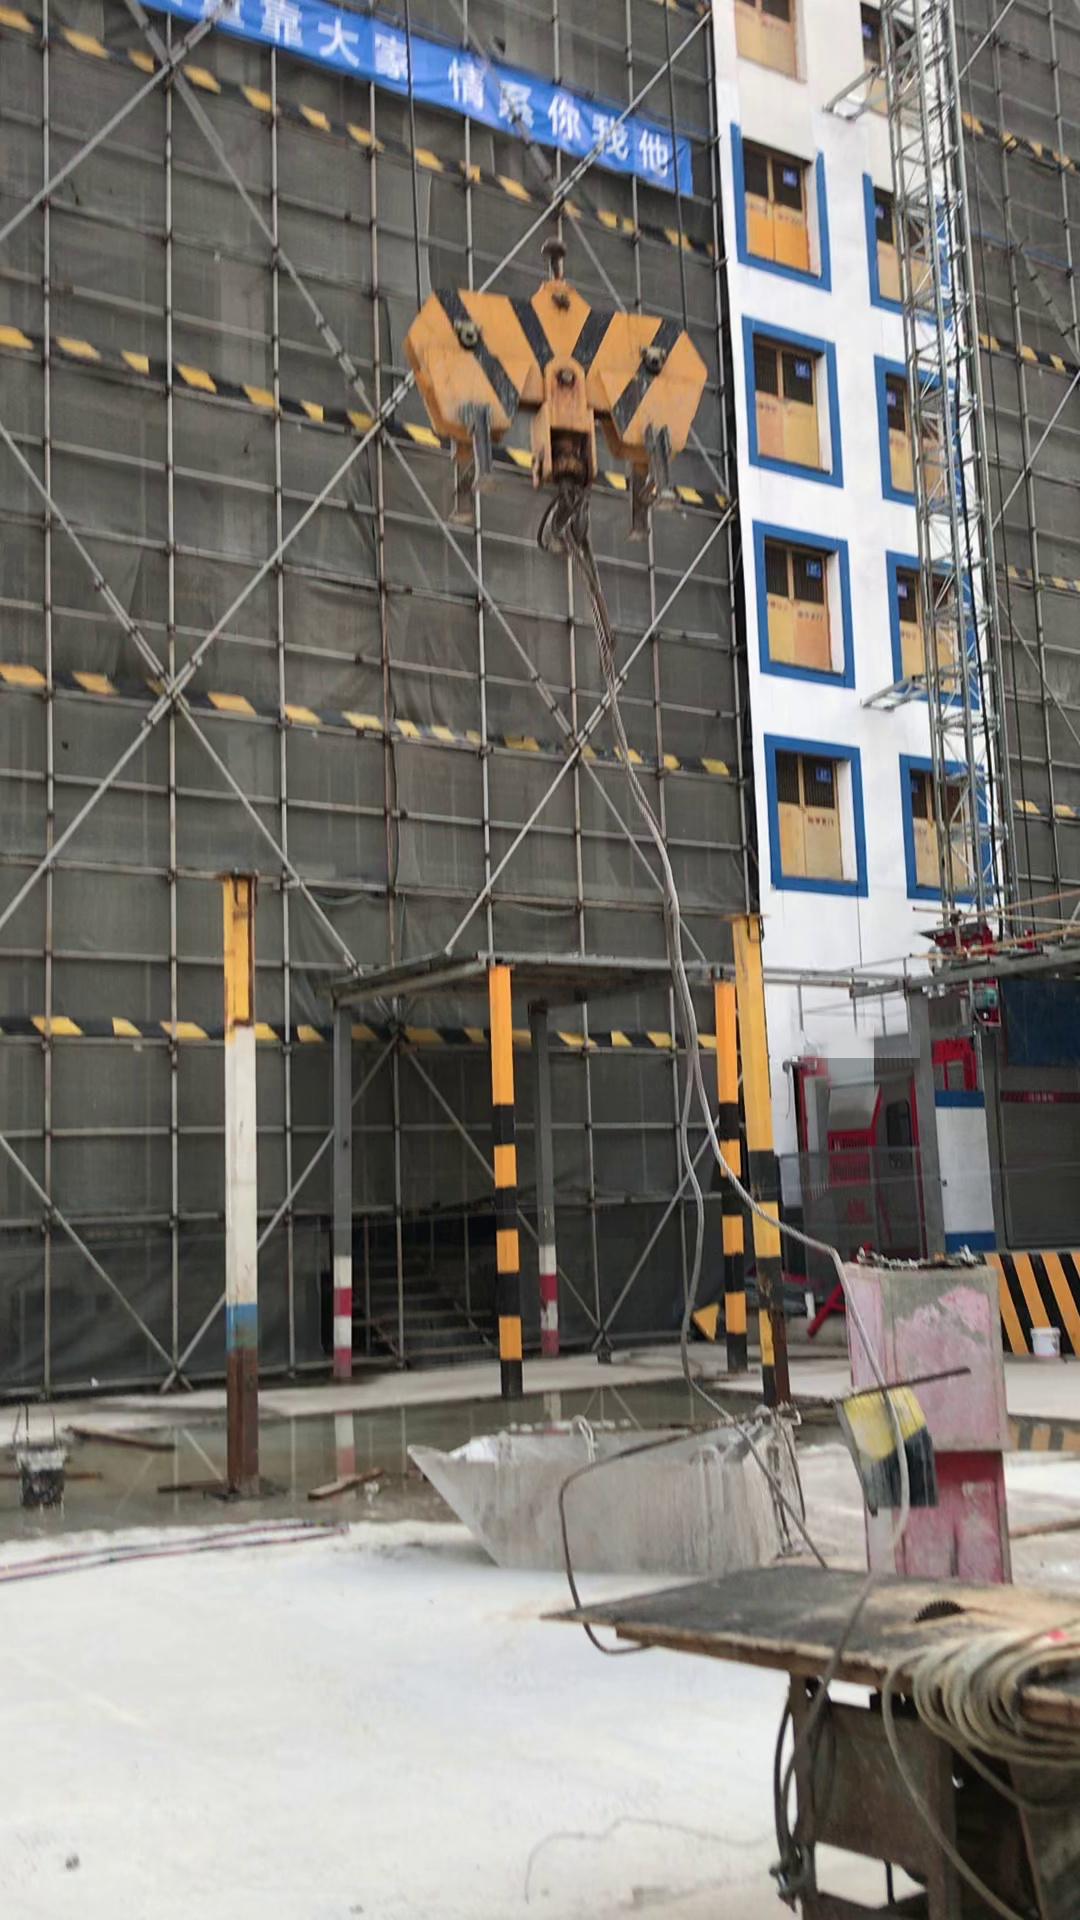cutter: (570, 1540, 1075, 1920)
hook: (380, 219, 764, 495)
hopper: (406, 1415, 791, 1577)
slogan: (195, 1, 705, 195)
